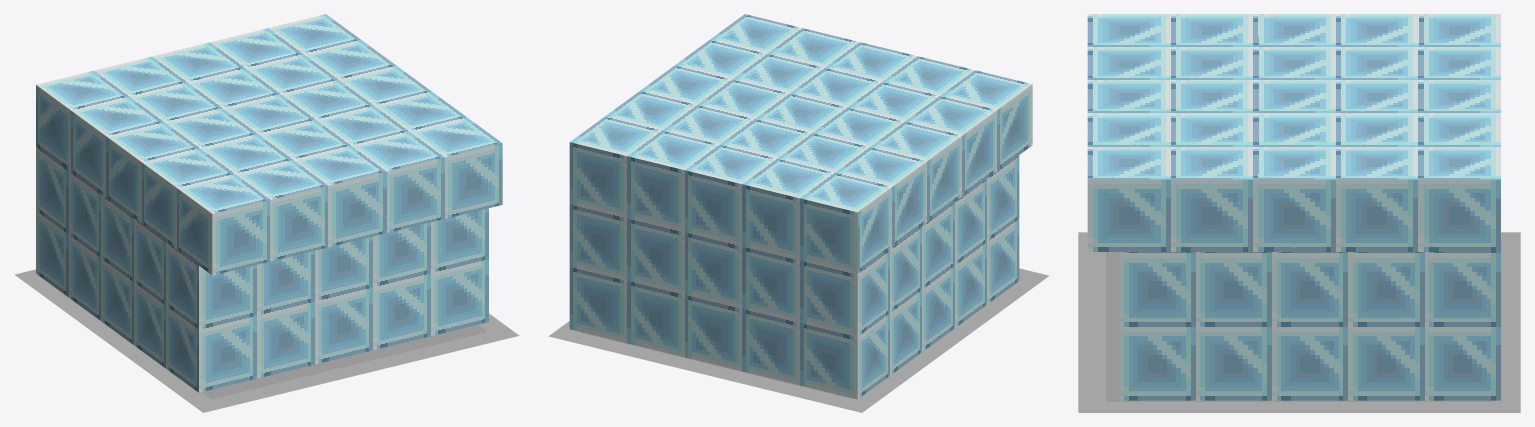
The picture shows the model from 3 angles, left to right: view 1: azimuth 30°, elevation 25°; view 2: azimuth 150°, elevation 25°; view 3: azimuth 270°, elevation 25°; orthographic projection. The views are drawn at different scales.
Visible parts, largest first — view 1: polygon0, polygon1; view 2: polygon0, polygon1; view 3: polygon0, polygon1.
Part boxes in pixels (box(x1,y1,x2,y2)): polygon0: box(36, 14, 502, 392); polygon1: box(15, 269, 519, 412); polygon0: box(569, 14, 1032, 399); polygon1: box(548, 268, 1049, 412); polygon0: box(1087, 14, 1500, 400); polygon1: box(1078, 232, 1520, 412).
Bounding box in the file's own units: 10.09 × 5.88 × 10.44.
2 materials, 2 textured.
